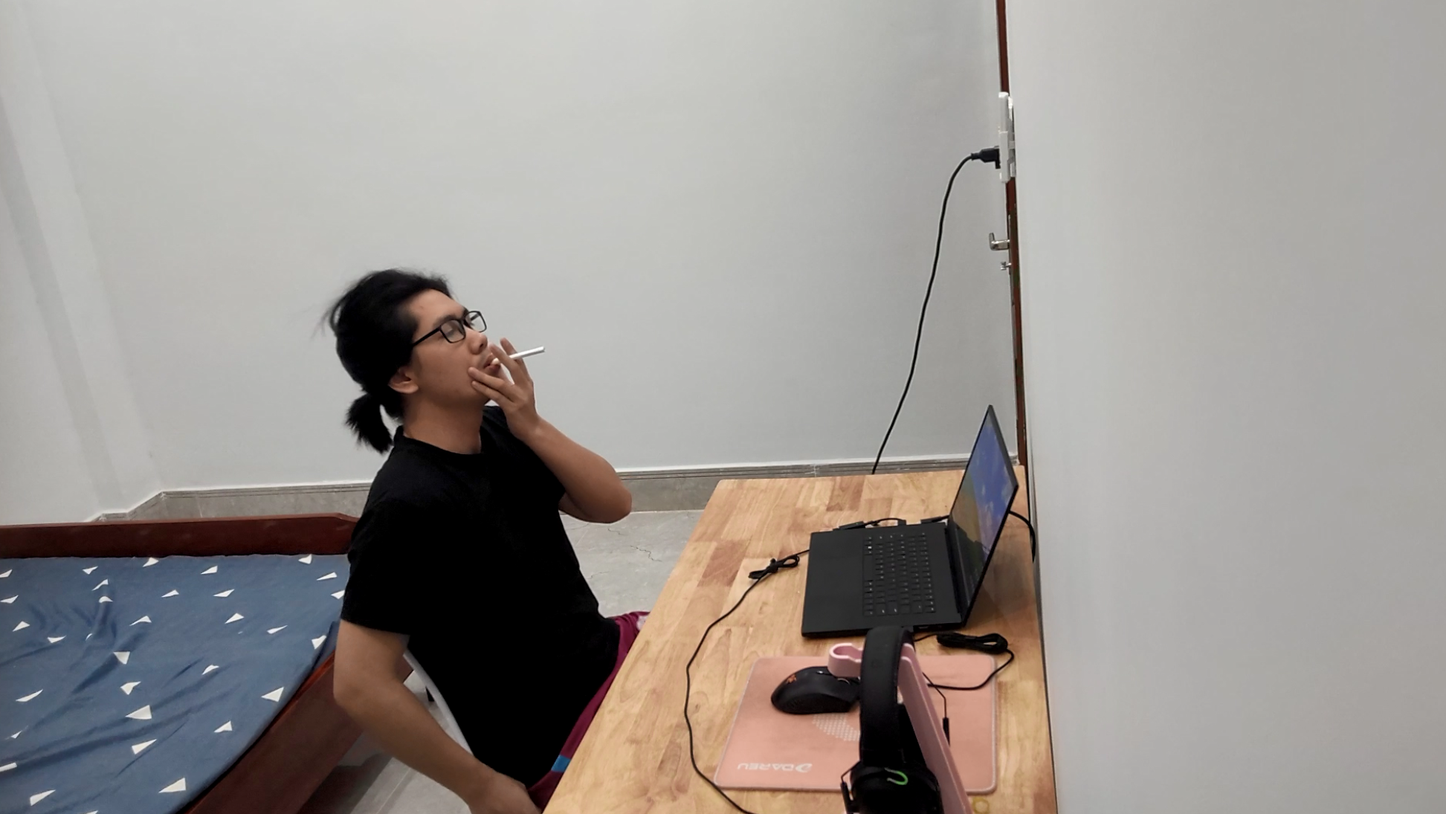cigarette: (482, 337, 546, 370)
person: (287, 239, 652, 814)
